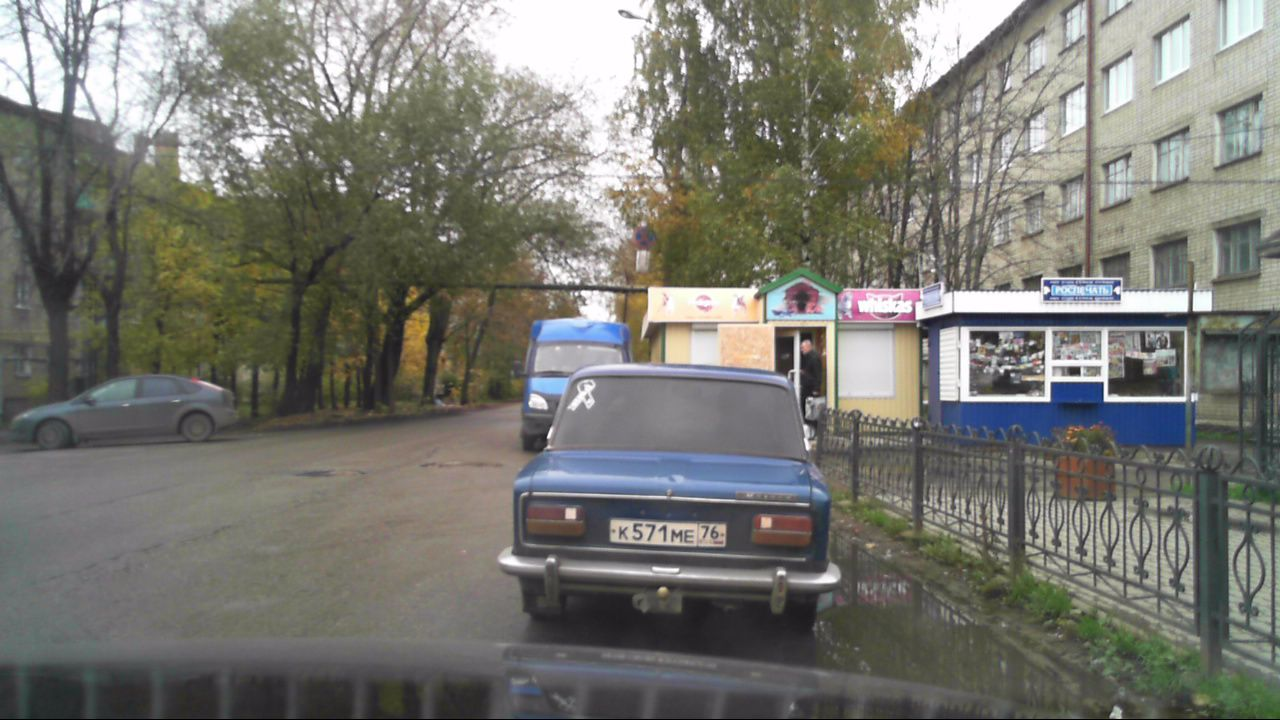No Parking: (631, 225, 655, 249)
